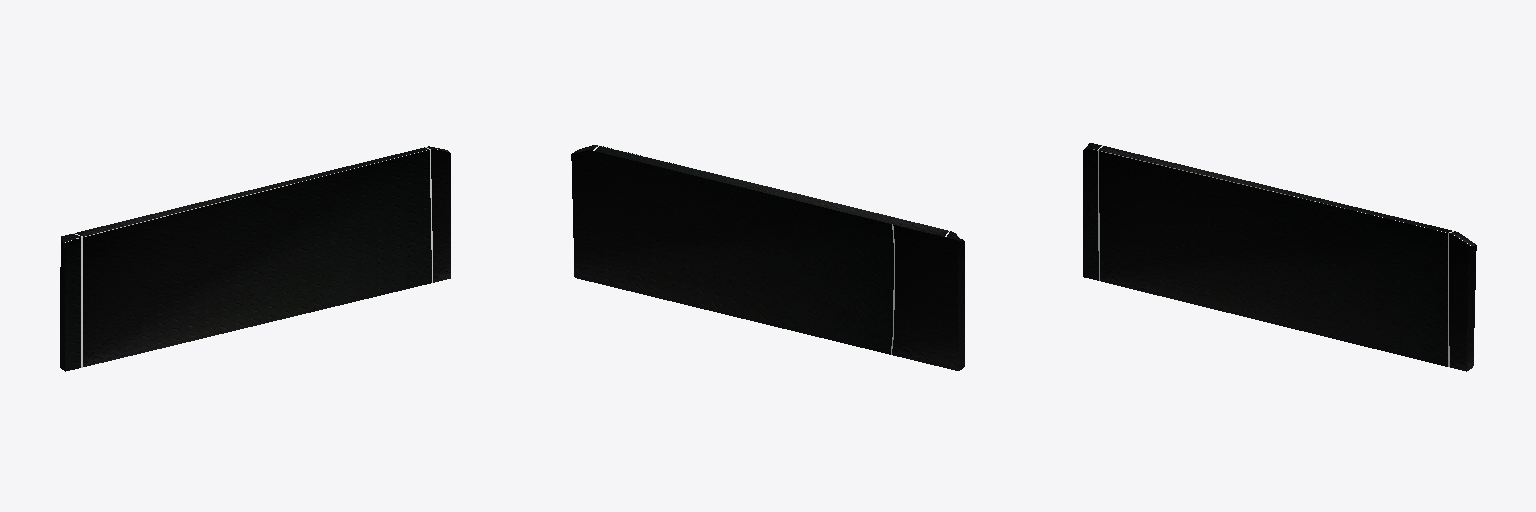
The picture shows the model from 3 angles: view 1: azimuth 30°, elevation 25°; view 2: azimuth 150°, elevation 25°; view 3: azimuth 330°, elevation 25°; orthographic projection.
Parts seen in each view (by area): view 1: Default.001; view 2: Default.001; view 3: Default.001.
Part boxes in pixels (left/top/right/bottom): Default.001: left=60, top=146, right=450, bottom=371; Default.001: left=571, top=145, right=964, bottom=370; Default.001: left=1083, top=143, right=1476, bottom=371.
Bounding box in the file's own units: 16.37 × 5.37 × 0.5715.
1 materials, 1 textured.